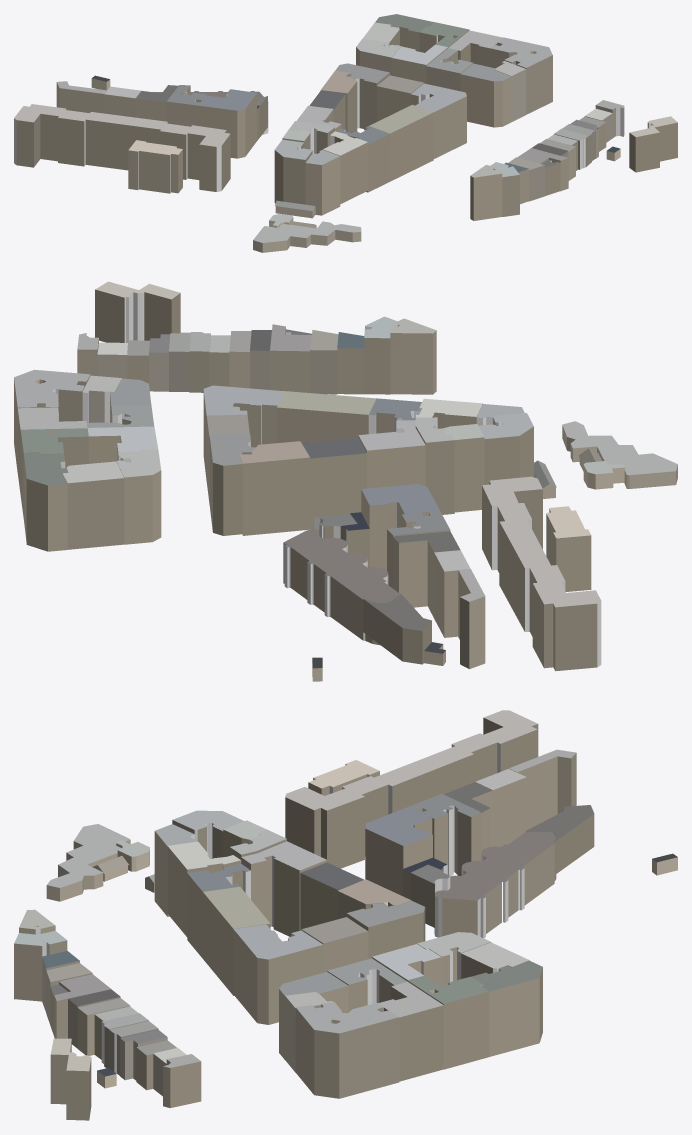
The picture shows the model from 3 angles, top to bottom: view 1: azimuth 30°, elevation 25°; view 2: azimuth 150°, elevation 25°; view 3: azimuth 270°, elevation 25°; orthographic projection. The views are drawn at different scales.
Visible parts, largest first — view 1: tuile; view 2: tuile; view 3: tuile.
Boxes of the visible parts, <box> form: tuile: <box>14,14,677,252</box>; tuile: <box>14,281,677,681</box>; tuile: <box>14,710,677,1120</box>.
Bounding box in the file's own units: 307 × 33.25 × 249.
